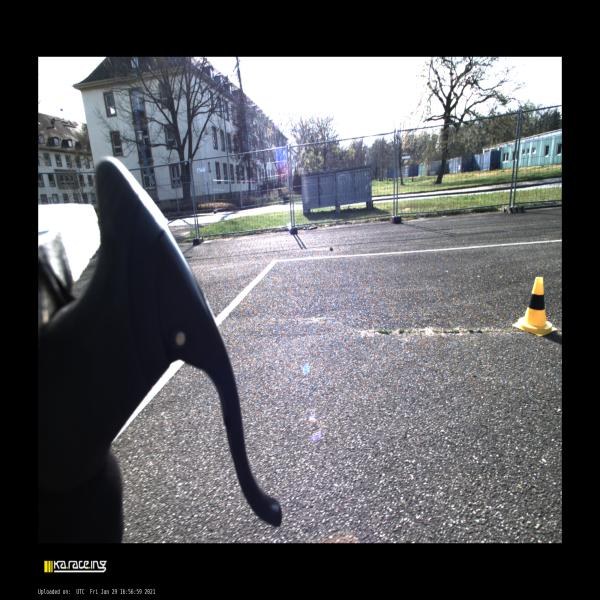yellow_cone: (512, 278, 557, 337)
